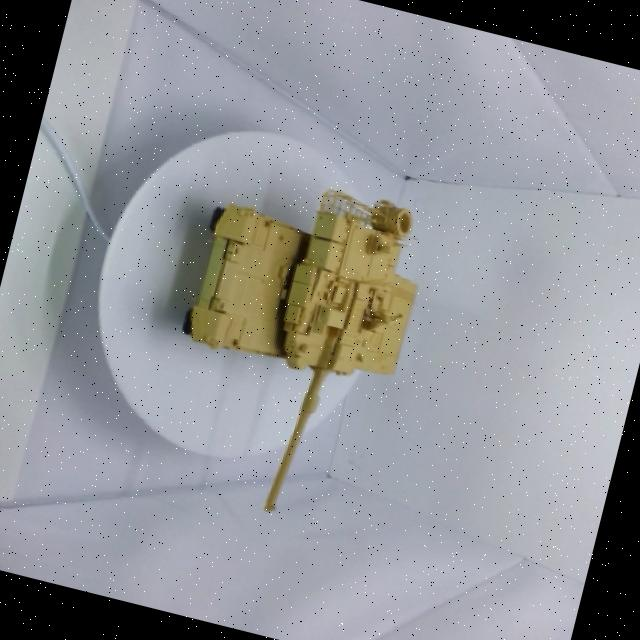korea tank: (106, 116, 485, 554)
